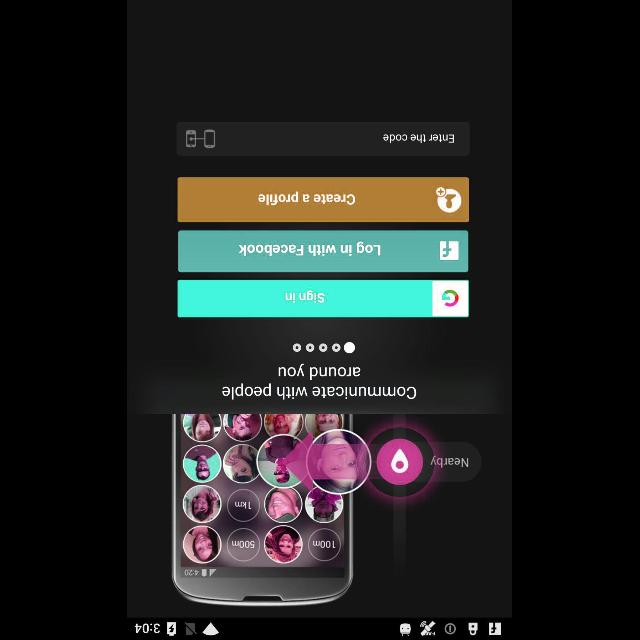image: (172, 414, 483, 606), (186, 130, 216, 148)
input: (178, 122, 470, 156)
pageindicator: (292, 341, 356, 353)
text: (223, 363, 417, 399), (384, 134, 454, 142)
textbutton: (178, 178, 470, 222), (179, 230, 469, 272), (178, 279, 470, 317)
uppertaskbar: (128, 617, 512, 639)
